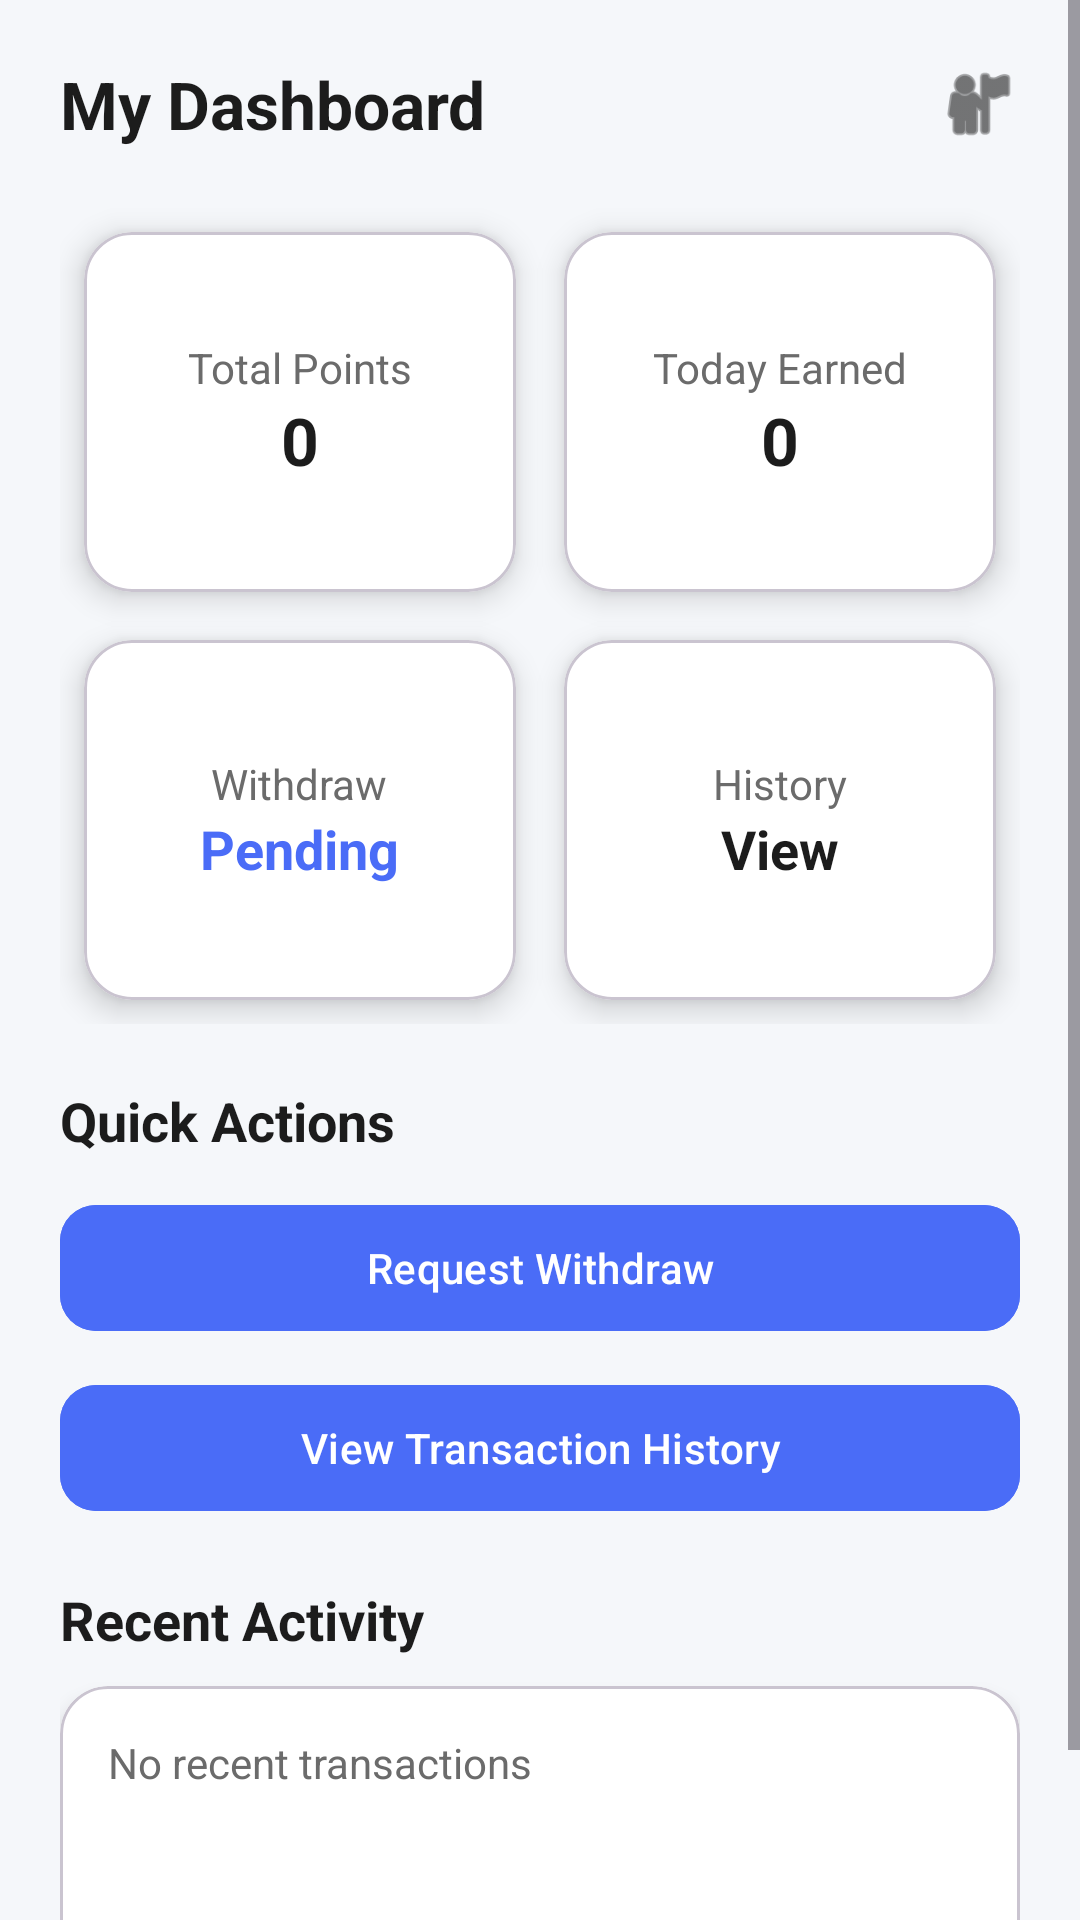

Icon bounding boxes for this 1080w x 1920h phone screenshot, format [x1,y1,x2,y2]:
myplaces: [947,73,1011,135]
